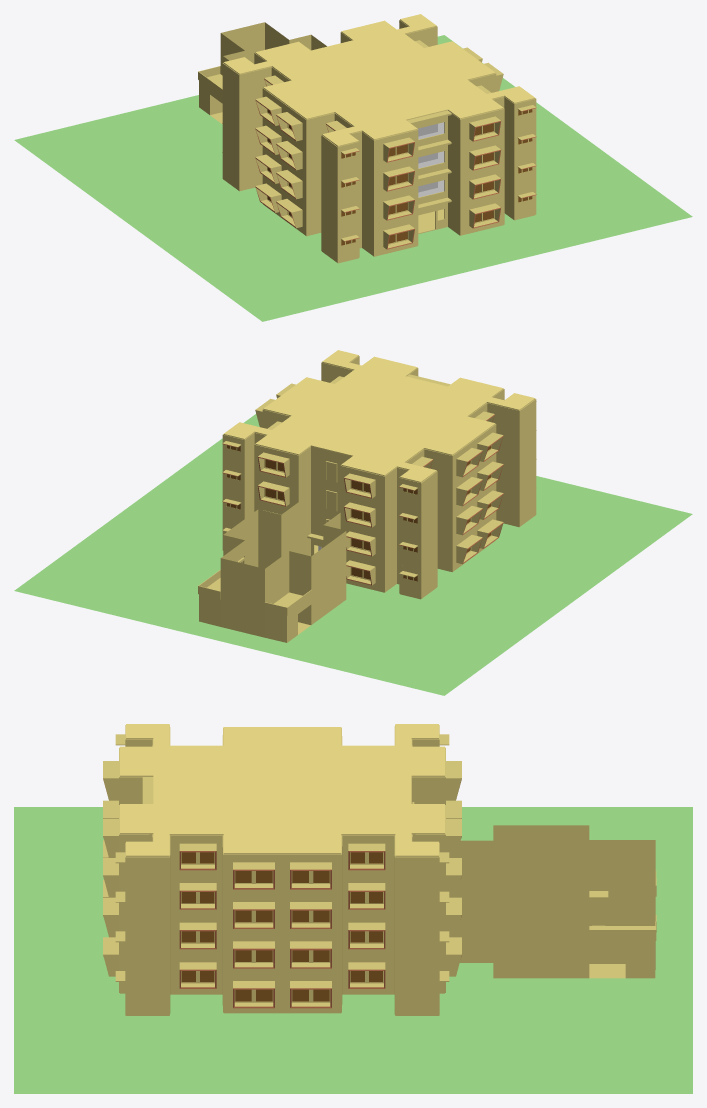
The picture shows the model from 3 angles, top to bottom: view 1: azimuth 30°, elevation 25°; view 2: azimuth 150°, elevation 25°; view 3: azimuth 270°, elevation 25°; orthographic projection. The views are drawn at different scales.
Parts seen in each view (by area): view 1: Plane.010, Plane.001, Plane.007, Plane, AIT_Hostel_Back_floor, Plane.002; view 2: Plane.010, Plane.001, Plane.007, AIT_Hostel_Back_floor, Plane; view 3: Plane.010, Plane.001, Plane.007, AIT_Hostel_Back_floor, Plane.
Part boxes in pixels (box(x1,y1,x2,y2)): Plane.010: box(14, 35, 692, 321); Plane.001: box(222, 20, 536, 233); Plane.007: box(223, 14, 535, 146); Plane: box(222, 150, 536, 262); AIT_Hostel_Back_floor: box(198, 22, 326, 124); Plane.002: box(234, 187, 534, 263); Plane.010: box(14, 414, 692, 695); Plane.001: box(222, 356, 536, 569); Plane.007: box(223, 350, 535, 482); AIT_Hostel_Back_floor: box(198, 502, 346, 642); Plane: box(222, 486, 536, 598); Plane.010: box(14, 807, 692, 1093); Plane.001: box(103, 725, 461, 975); Plane.007: box(120, 724, 444, 856); AIT_Hostel_Back_floor: box(456, 825, 656, 978); Plane: box(103, 879, 461, 1015).
Bounding box in the file's own units: 20.02 × 5.28 × 20.02.
